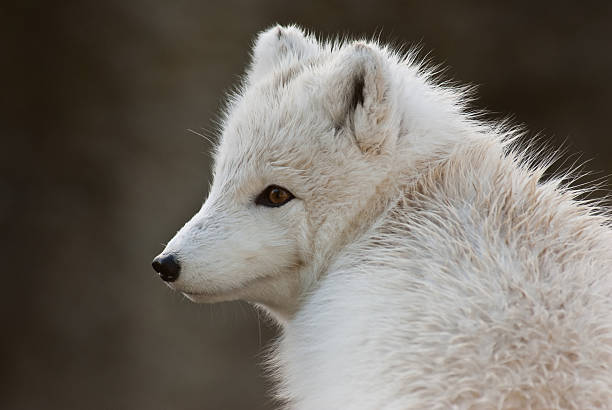arcticfox: (142, 108, 363, 304)
